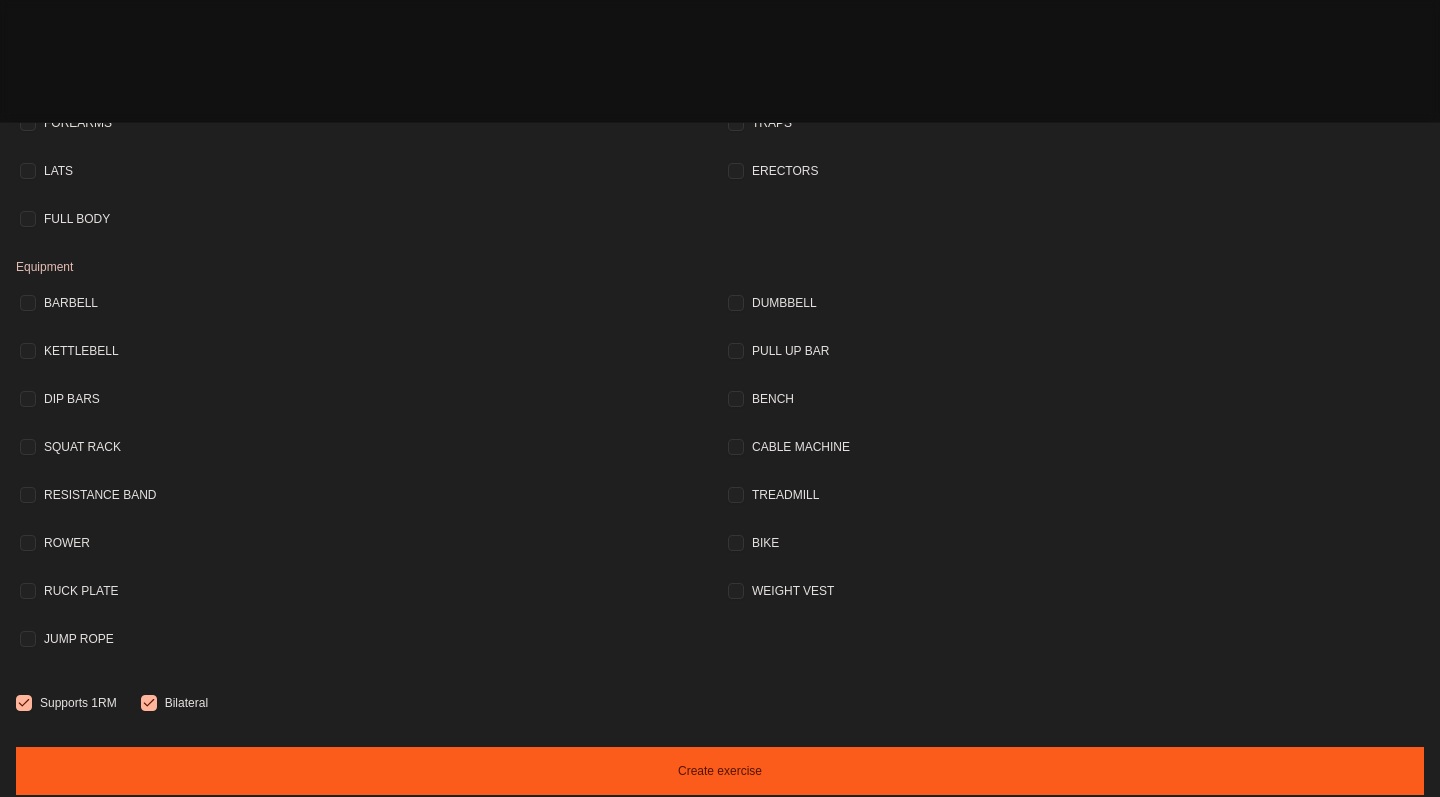
Test: CreateExerciseSheet › shows validation error when submitting with empty name
The image size is (1440, 797).
(page scrolled)
Click the button "Create exercise": (720, 770) [16,746,1424,794]
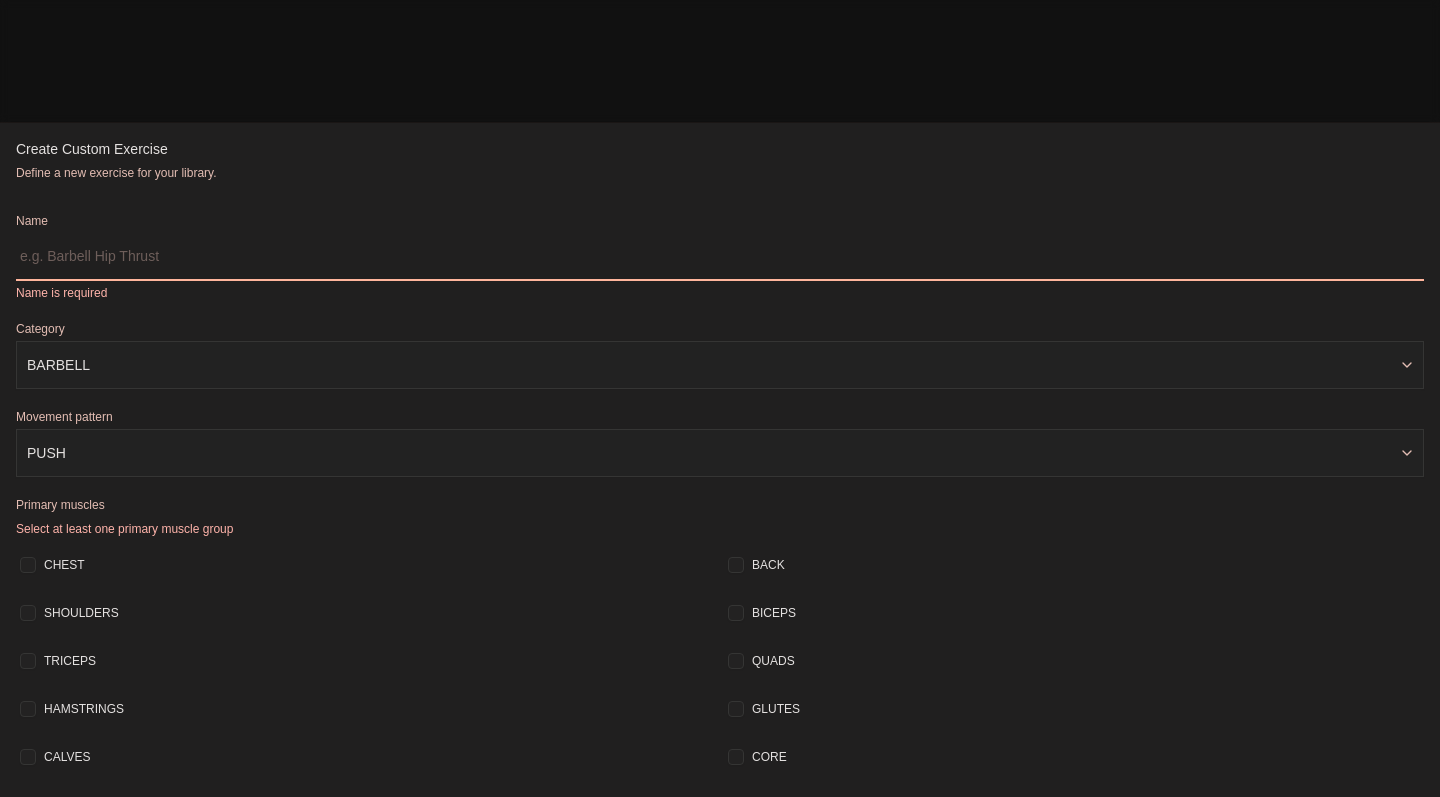
Expected: the text "Name is required" is shown, [16,286,107,300]
